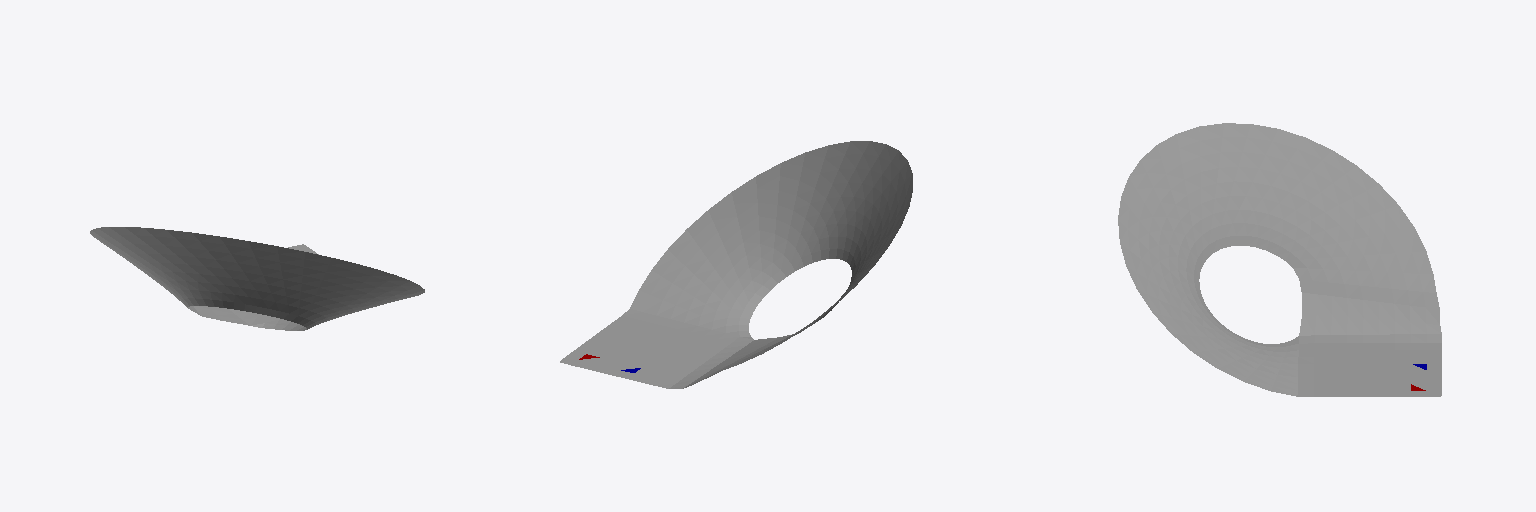
The model's file is loop.obj.
3 renders of one model, left to right at view 1: azimuth 30°, elevation 25°; view 2: azimuth 150°, elevation 25°; view 3: azimuth 270°, elevation 25°, orthographic.
Parts seen in each view (by area): view 1: Grid_Grid.001; view 2: Grid_Grid.001; view 3: Grid_Grid.001.
Part boxes in pixels (left/top/right/bottom): Grid_Grid.001: left=90, top=227, right=424, bottom=330; Grid_Grid.001: left=560, top=141, right=912, bottom=388; Grid_Grid.001: left=1118, top=123, right=1441, bottom=396.
Bounding box in the file's own units: 13.84 × 7.76 × 14.41.